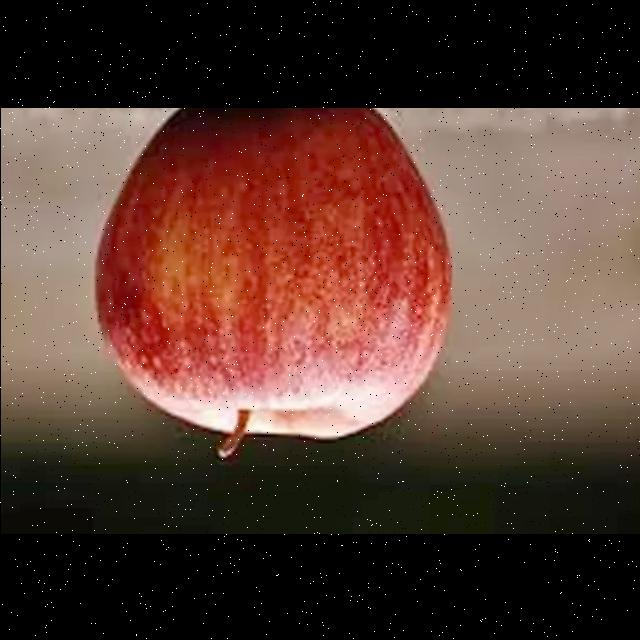Apel Segar: (79, 106, 465, 430)
